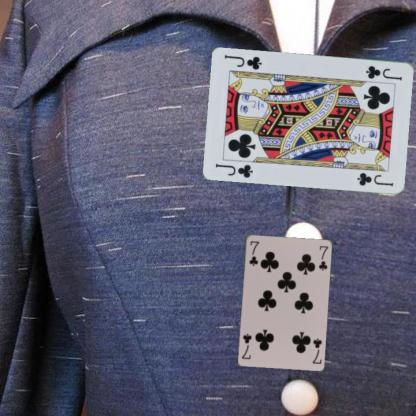7c: (310, 335, 323, 365), (247, 238, 260, 267)
Jc: (363, 62, 404, 82), (213, 160, 254, 178)
